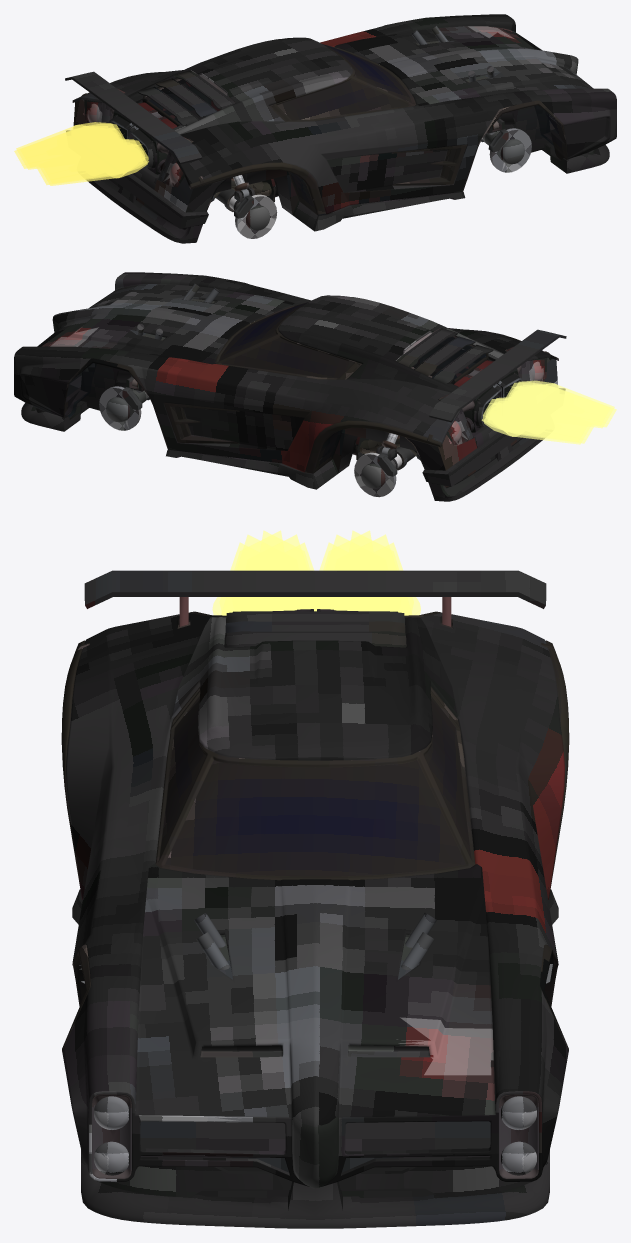
The model's file is Dominus_PremiumSkin_DetailedMaterials.glb.
The picture shows the model from 3 angles, top to bottom: view 1: azimuth 30°, elevation 25°; view 2: azimuth 150°, elevation 25°; view 3: azimuth 270°, elevation 25°; orthographic projection. The views are drawn at different scales.
Visible parts, largest first — view 1: Dominus_PremiumSkin_DetailedMaterials; view 2: Dominus_PremiumSkin_DetailedMaterials; view 3: Dominus_PremiumSkin_DetailedMaterials.
Boxes of the visible parts, x1,y1,x2,y2 form: Dominus_PremiumSkin_DetailedMaterials: (14,14,616,243); Dominus_PremiumSkin_DetailedMaterials: (14,272,616,501); Dominus_PremiumSkin_DetailedMaterials: (61,530,569,1228).
Size of the model in its own units: 1.8 by 0.3947 by 0.7251.
10 materials, 9 textured.
